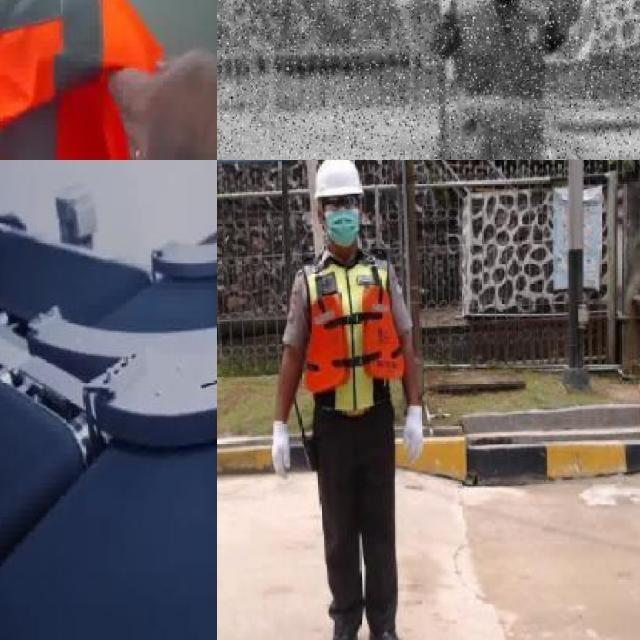apron: (270, 416, 294, 484), (401, 403, 426, 468)
